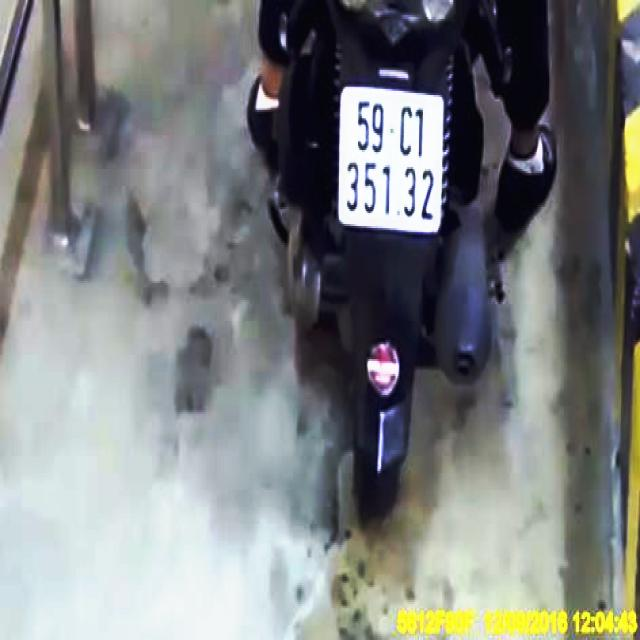license_plate: (338, 91, 445, 237)
